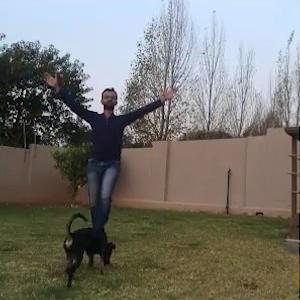takeoff: (0, 42, 178, 248)
